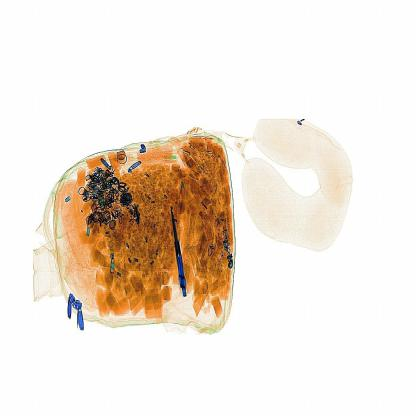gun: (164, 196, 196, 310)
